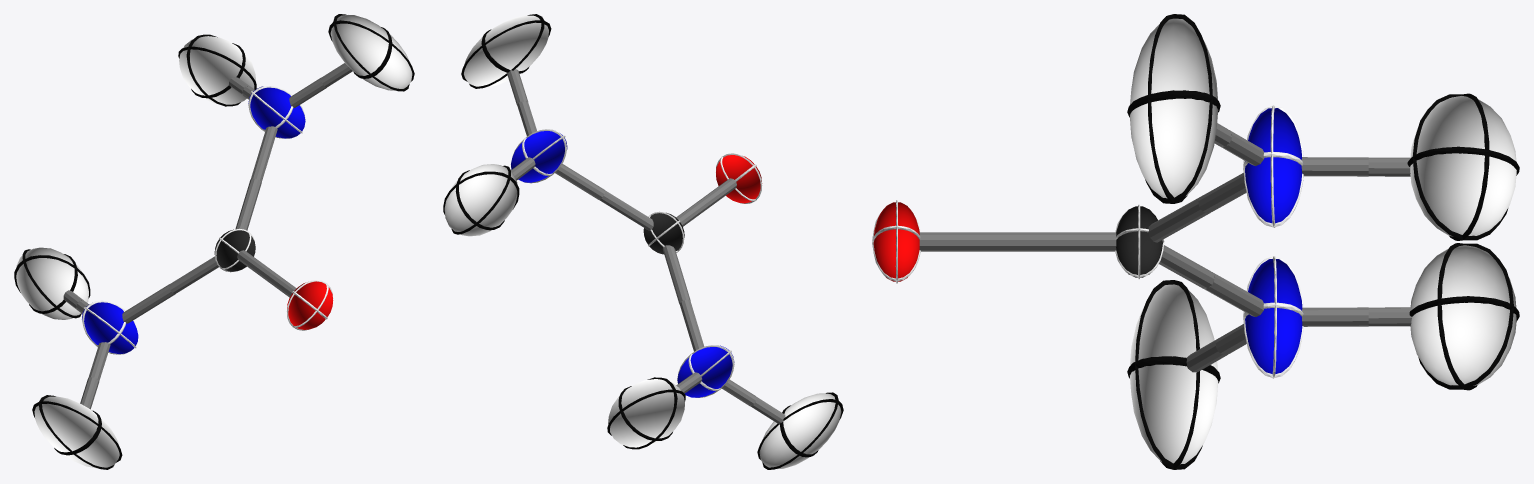
File: urea_noncc.obj
3 views of the same model, side by side, from view 1: azimuth 30°, elevation 25°; view 2: azimuth 150°, elevation 25°; view 3: azimuth 270°, elevation 25° (orthographic). The views are drawn at different scales.
Parts seen in each view (by area): view 1: object 7, H1, H2, object 8, N, object 6, O, C, object 17, N=C, C=N, object 18 (+3 smaller); view 2: object 8, H2, H1, object 7, object 6, N, O, C, object 18, C=N, N=C, object 17 (+3 smaller); view 3: H1, object 7, H2, object 8, object 6, N, O, C, O=C, C=O, N=H2, object 22 (+8 smaller).
Boxes of the visible parts, <box> form: object 7: <box>32,395,122,469</box>; H1: <box>328,14,414,91</box>; H2: <box>178,34,256,106</box>; object 8: <box>14,247,90,319</box>; N: <box>248,86,305,138</box>; object 6: <box>82,300,138,354</box>; O: <box>287,280,333,330</box>; C: <box>214,228,255,272</box>; object 17: <box>122,284,175,323</box>; N=C: <box>251,126,277,182</box>; C=N: <box>235,178,261,230</box>; object 18: <box>169,256,218,293</box>; object 8: <box>607,377,685,449</box>; H2: <box>443,164,519,236</box>; H1: <box>461,14,551,88</box>; object 7: <box>757,392,843,469</box>; object 6: <box>677,345,734,397</box>; N: <box>511,129,567,183</box>; O: <box>716,153,762,203</box>; C: <box>643,211,684,254</box>; object 18: <box>662,245,690,303</box>; C=N: <box>599,190,653,230</box>; N=C: <box>555,164,605,199</box>; object 17: <box>679,299,704,351</box>; H1: <box>1127,14,1220,203</box>; object 7: <box>1127,280,1220,469</box>; H2: <box>1407,93,1519,240</box>; object 8: <box>1409,243,1519,390</box>; object 6: <box>1243,256,1303,378</box>; N: <box>1243,105,1303,227</box>; O: <box>872,200,920,283</box>; C: <box>1115,204,1164,279</box>; O=C: <box>919,232,1017,251</box>; C=O: <box>1018,232,1116,251</box>; N=H2: <box>1301,157,1368,176</box>; object 22: <box>1302,307,1368,326</box>.
Size of the model in its own units: 3.63 by 3.63 by 3.36.
